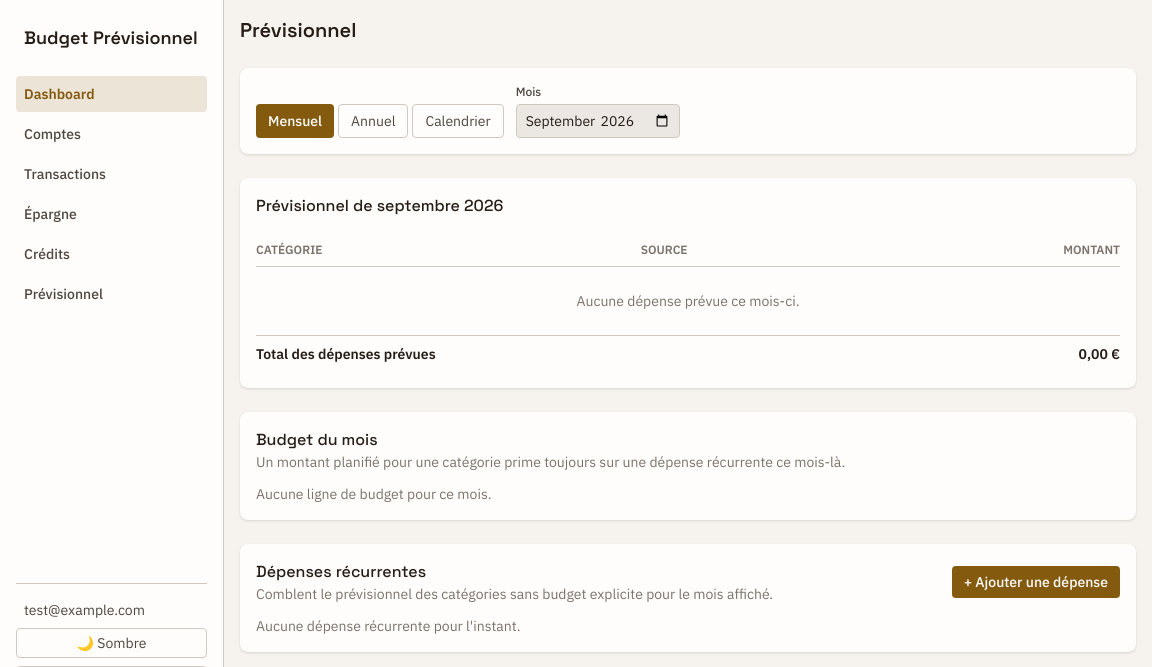
ForecastPage › switches to the annual view and lists a total per month
Expected: the text "Aucune dépense prévue ce mois-ci." is shown, [256,266,1120,336]
Click the button "Annuel".
click(373, 121)  # box [338,104,408,138]
(page scrolled)
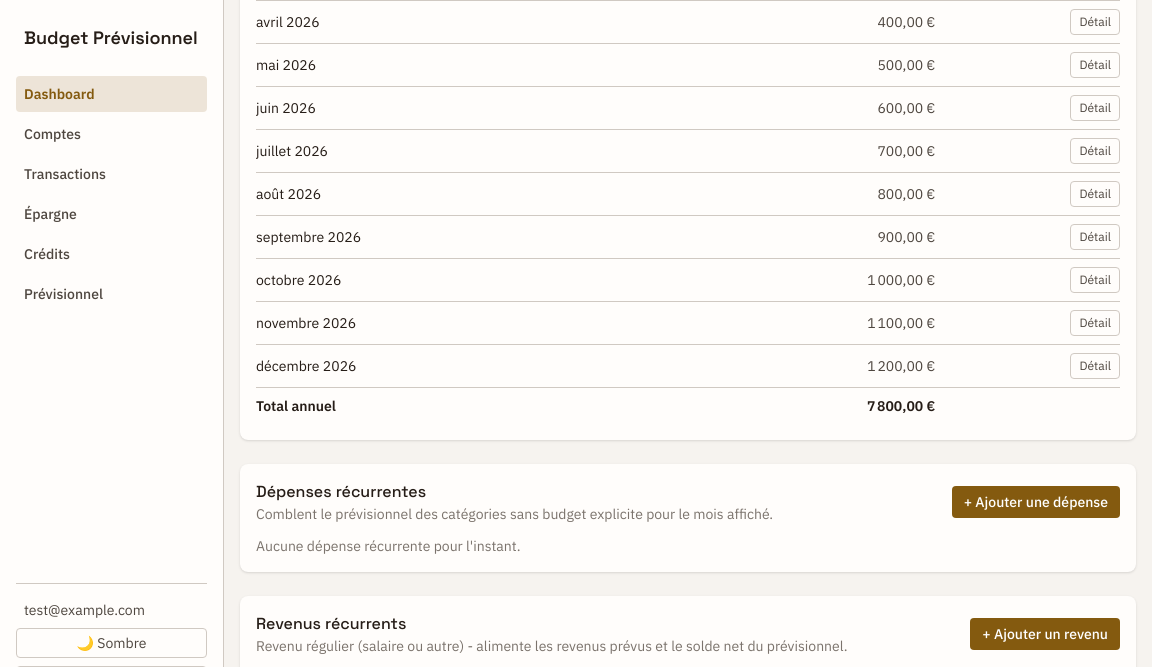
Now the text "7 800,00 €" is shown, box [648,388,935,424]
